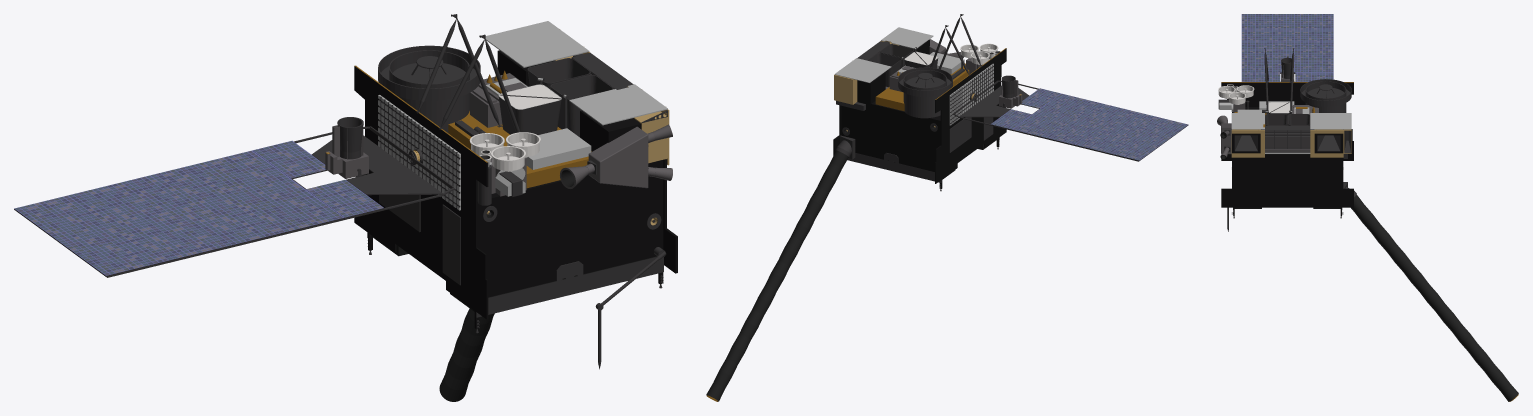
The model's file is Geostationary Operational Environmental Satellites.obj.
3 views of the same model, side by side, from view 1: azimuth 30°, elevation 25°; view 2: azimuth 150°, elevation 25°; view 3: azimuth 270°, elevation 25° (orthographic). The views are drawn at different scales.
Visible parts, largest first — view 1: obj3, obj15, obj18, obj14, obj19, obj7, obj23, obj12, obj22, obj20, obj11, obj21 (+6 smaller); view 2: obj3, obj18, obj15, obj14, obj13, obj19, obj7, obj23, obj22, obj20, obj21, obj9 (+3 smaller); view 3: obj3, obj18, obj13, obj19, obj15, obj14, obj7, obj23, obj22, obj20, obj5, obj21 (+3 smaller).
Part boxes in pixels (box(x1,y1,x2,y2)): obj3: box(354, 50, 677, 328); obj15: box(106, 14, 663, 369); obj18: box(14, 140, 383, 275); obj14: box(14, 52, 667, 362); obj19: box(15, 141, 372, 273); obj7: box(378, 21, 667, 210); obj23: box(23, 144, 377, 271); obj12: box(560, 124, 672, 188); obj22: box(25, 142, 379, 270); obj20: box(18, 148, 377, 275); obj11: box(325, 73, 527, 196); obj21: box(27, 152, 382, 272); obj3: box(833, 40, 1006, 188); obj18: box(991, 88, 1188, 160); obj15: box(706, 14, 1138, 395); obj14: box(836, 41, 1188, 182); obj13: box(706, 150, 848, 401); obj19: box(992, 90, 1186, 160); obj7: box(834, 27, 993, 125); obj23: box(999, 89, 1183, 156); obj22: box(994, 89, 1182, 158); obj20: box(997, 90, 1187, 159); obj21: box(1005, 88, 1182, 157); obj9: box(875, 48, 1021, 111); obj3: box(1220, 82, 1353, 216); obj18: box(1241, 14, 1333, 81); obj13: box(1351, 195, 1518, 401); obj19: box(1242, 14, 1333, 81); obj15: box(1227, 48, 1517, 396); obj14: box(1218, 72, 1351, 228); obj7: box(1219, 102, 1351, 129); obj23: box(1242, 14, 1333, 81); obj22: box(1242, 14, 1333, 81); obj20: box(1242, 14, 1333, 81); obj5: box(1231, 124, 1351, 157); obj21: box(1242, 14, 1333, 81).
Bounding box in the file's own units: 0.1344 × 0.122 × 0.1114.
